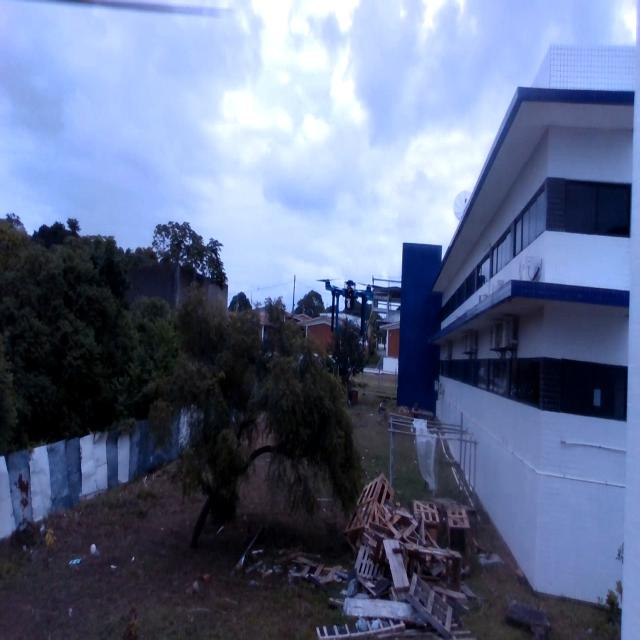-uav-: (306, 249, 394, 360)
